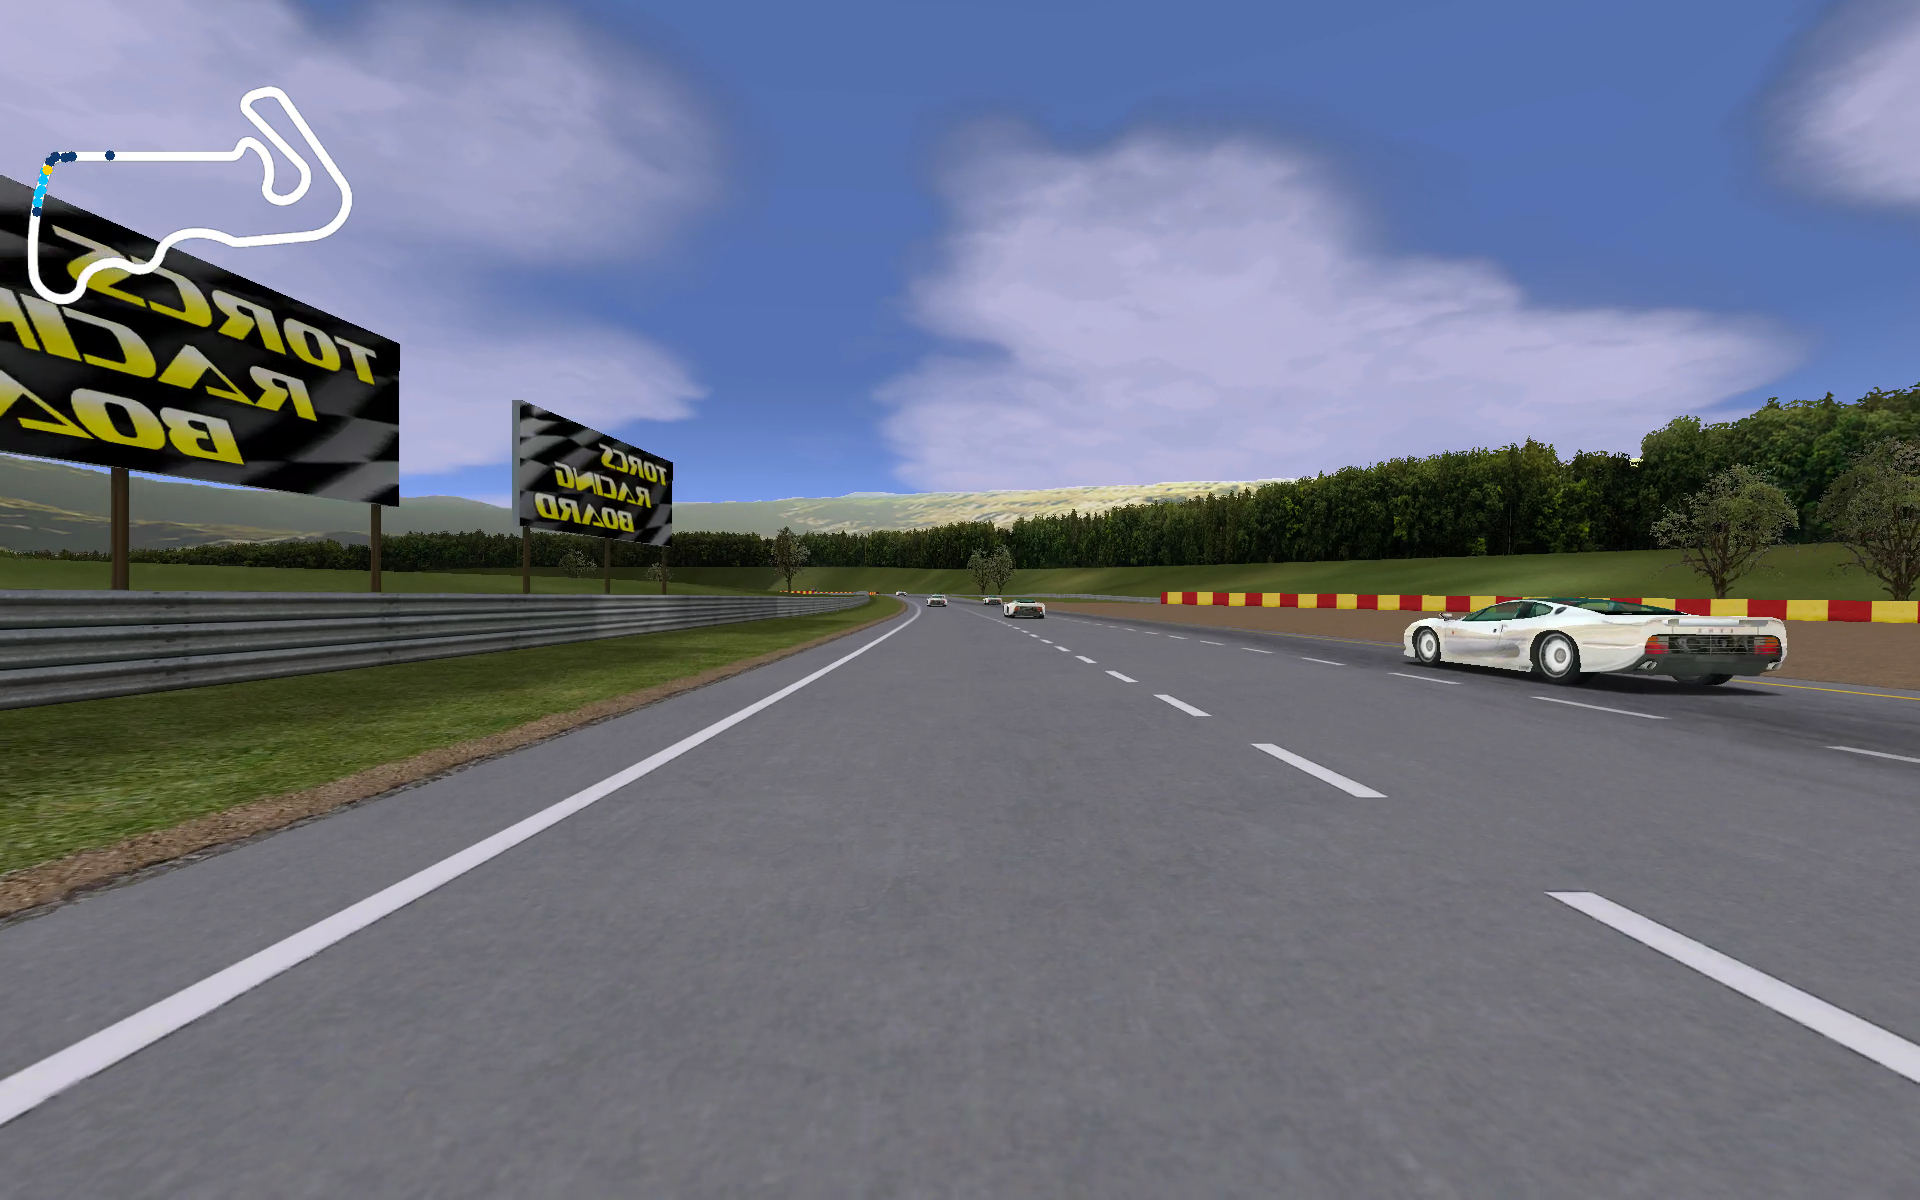car: (1402, 596, 1791, 693), (999, 596, 1048, 619), (923, 592, 952, 608)
